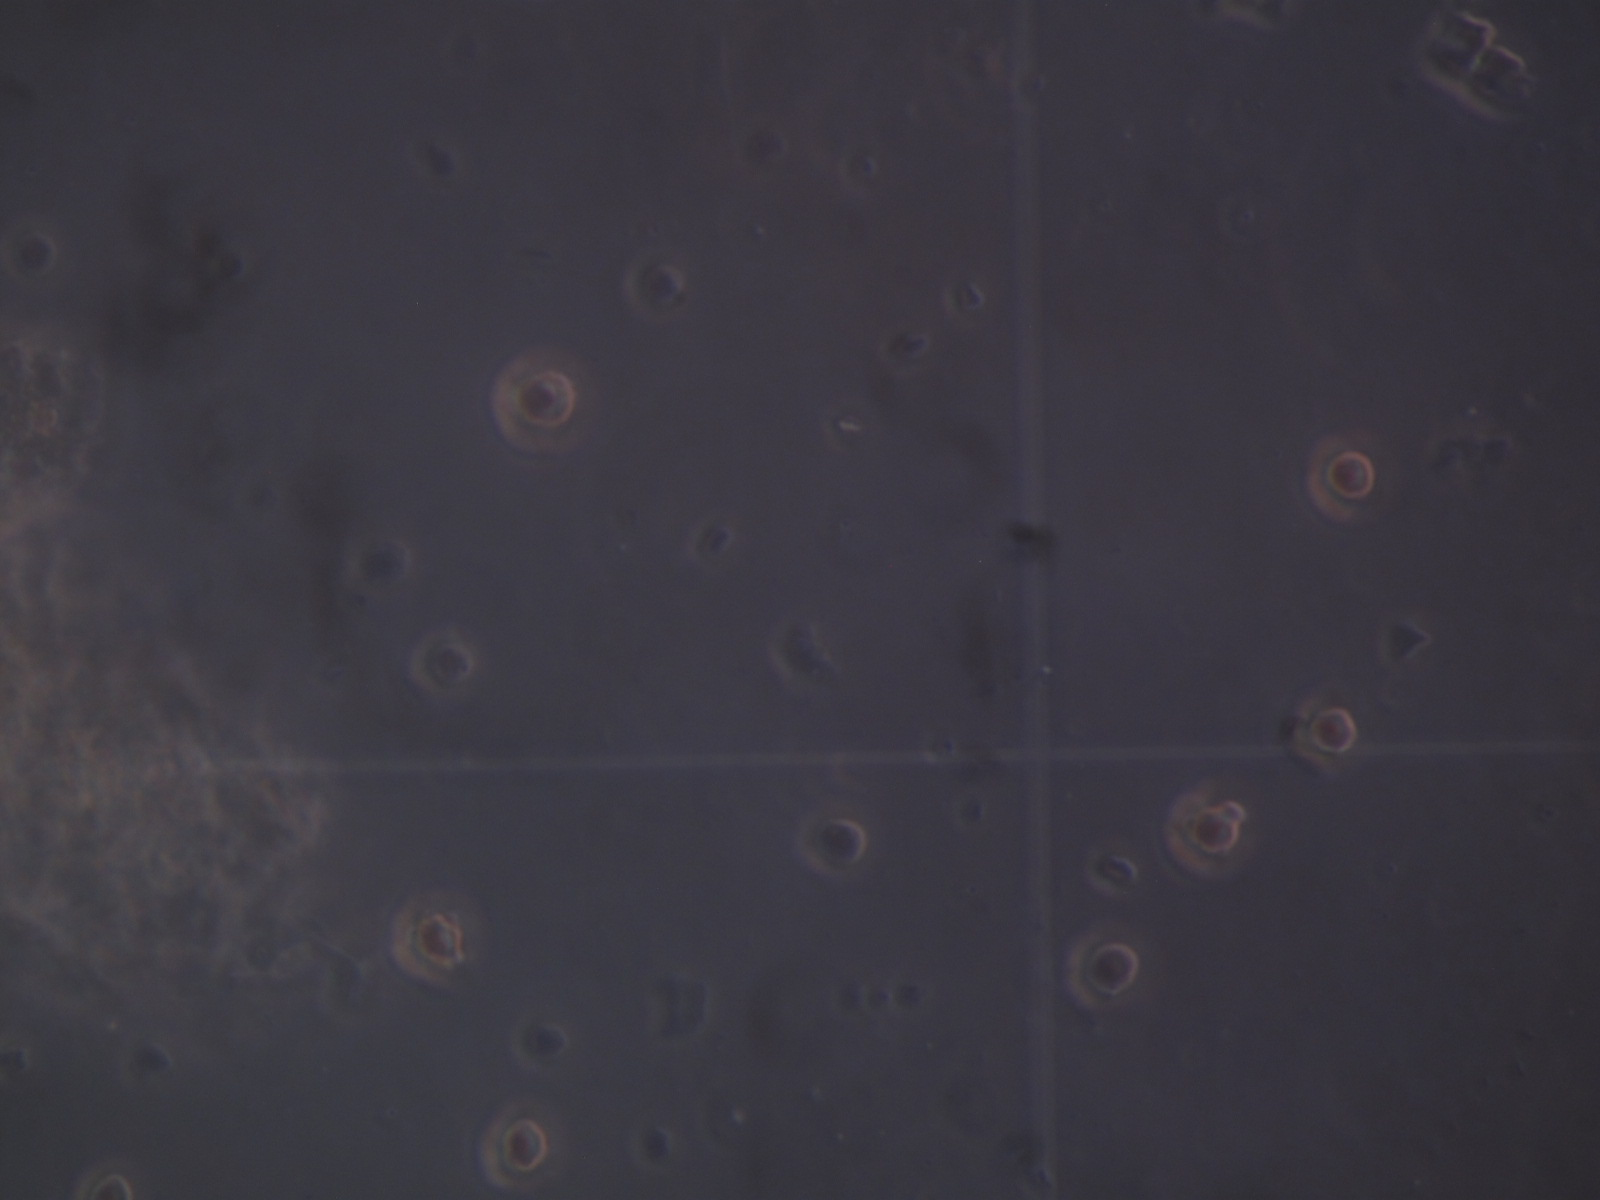hemo: (495, 352, 576, 453), (394, 896, 467, 987), (1415, 9, 1494, 87), (1306, 436, 1374, 524), (477, 1105, 547, 1189), (1065, 933, 1136, 1011), (1458, 47, 1533, 120), (1168, 793, 1238, 870), (1290, 693, 1354, 765), (797, 813, 867, 879), (624, 255, 688, 321), (413, 625, 472, 692), (1086, 842, 1139, 897), (76, 1163, 136, 1200)
